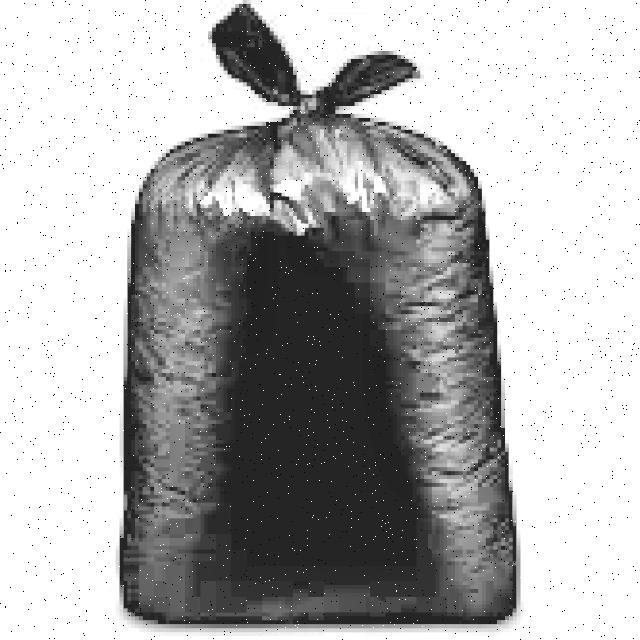Trashbag: (110, 0, 527, 632)
